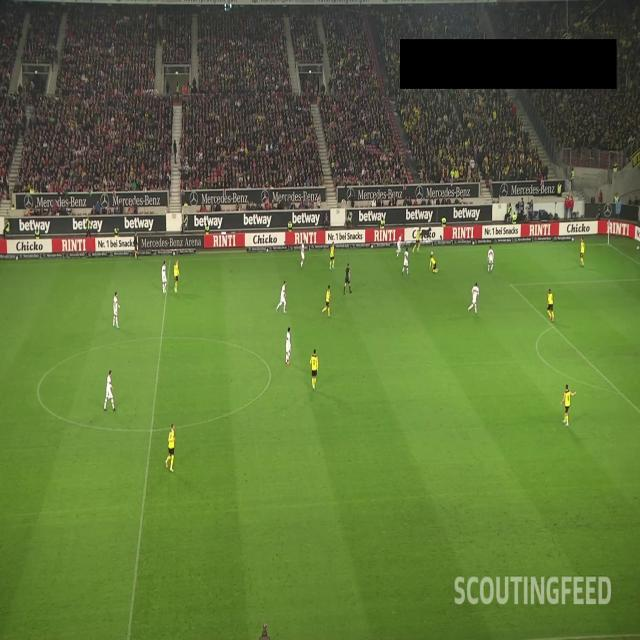ball: (431, 251, 434, 255)
team1: (560, 384, 577, 427), (164, 422, 177, 473), (309, 349, 319, 390), (322, 286, 332, 320), (412, 226, 422, 254), (547, 289, 554, 322), (174, 259, 180, 293), (429, 254, 439, 274), (329, 242, 335, 270), (580, 237, 585, 267)
team2: (104, 369, 116, 412), (468, 282, 480, 314), (276, 281, 287, 314), (112, 292, 121, 330), (285, 327, 291, 365), (487, 245, 494, 274), (162, 260, 168, 293), (402, 248, 409, 276), (300, 240, 305, 268), (396, 234, 402, 256)
